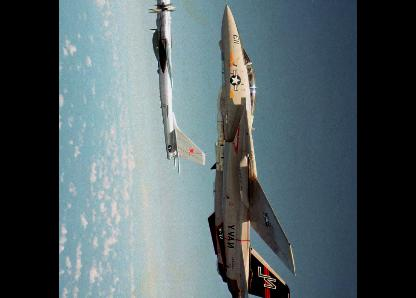EF2000: (209, 0, 298, 297)
Su57: (149, 0, 208, 176)
